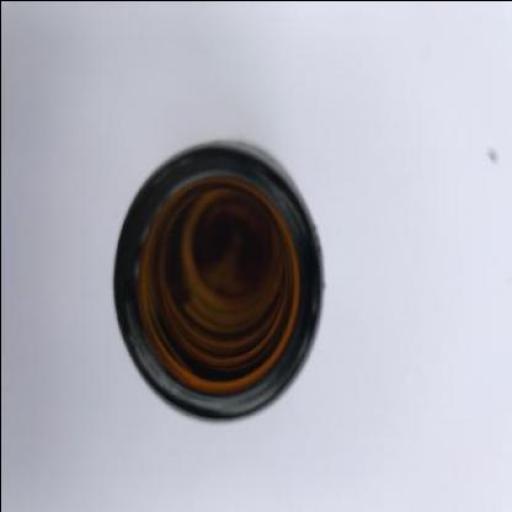glass: (114, 144, 325, 422)
